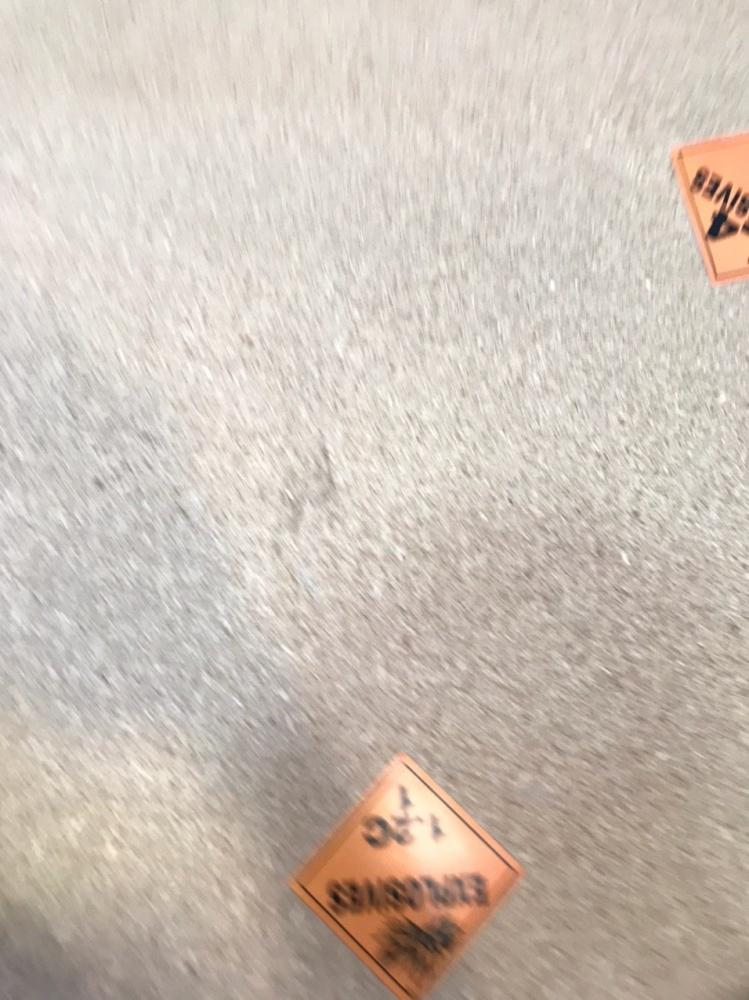explosive: (296, 754, 527, 997), (671, 143, 749, 287)
